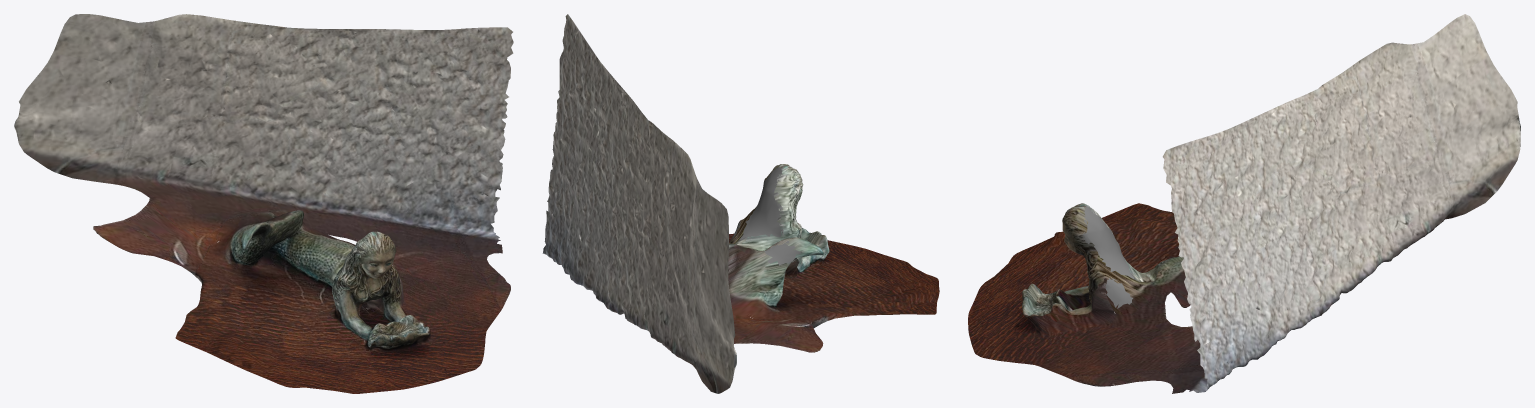
Rendered from meermin.obj.
3 renders of one model, left to right at view 1: azimuth 30°, elevation 25°; view 2: azimuth 150°, elevation 25°; view 3: azimuth 270°, elevation 25°, orthographic. The views are drawn at different scales.
Parts seen in each view (by area): view 1: meermin; view 2: meermin; view 3: meermin.
Boxes of the visible parts, x1,y1,x2,y2 form: meermin: [14, 14, 513, 393]; meermin: [542, 14, 939, 393]; meermin: [968, 14, 1520, 393].
Size of the model in its own units: 38.18 by 25.72 by 48.23.
2 materials, 1 textured.
